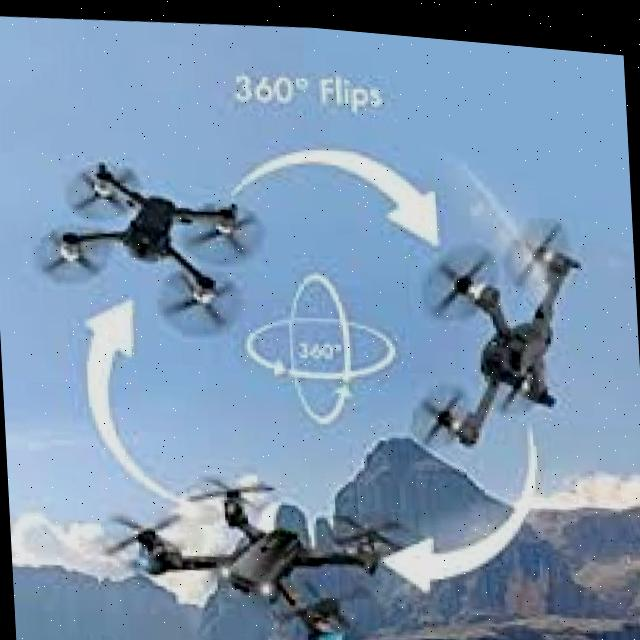drone: (110, 442, 401, 640), (400, 199, 602, 468), (28, 128, 269, 353)
